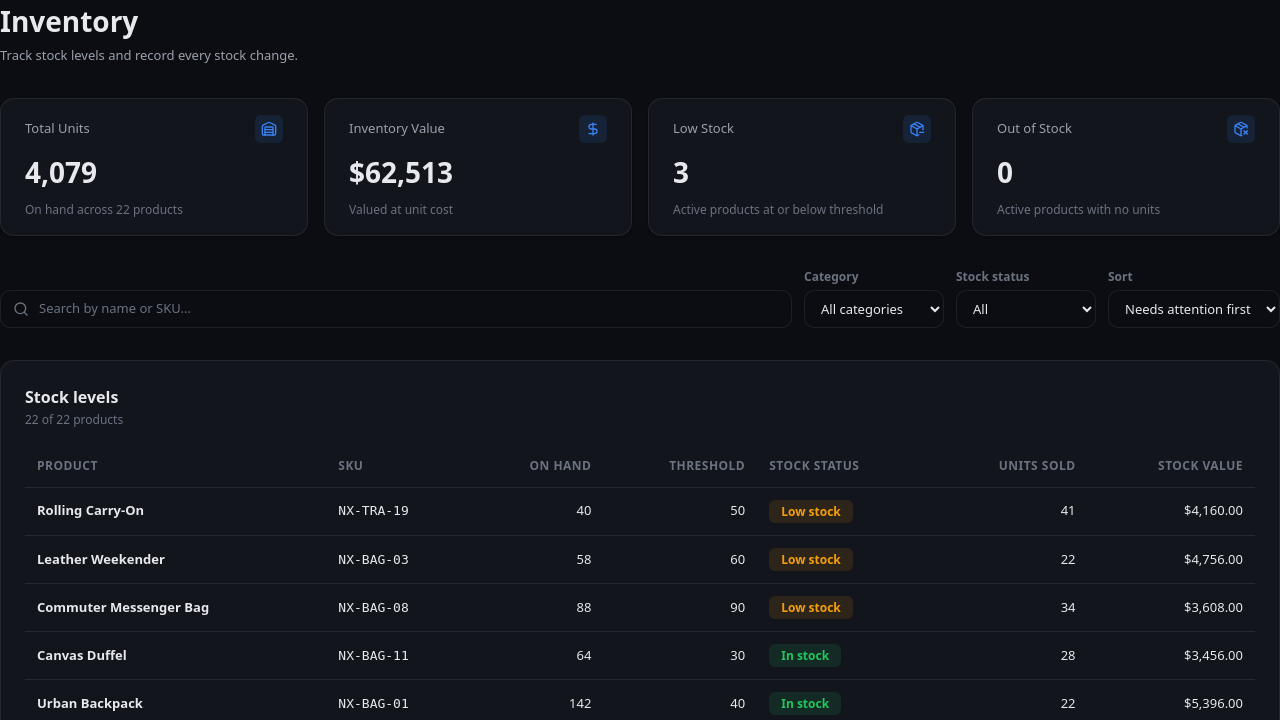
Scenario: Inventory page: search, filters and sorting › shows Clear filters only when needed and resets every control
This screenshot has width=1280, height=720.
Expected: the button "Clear filters" is not shown
Type "bag" into the search field named "search inventory" at x=408, y=309, box [37,298,779,319]
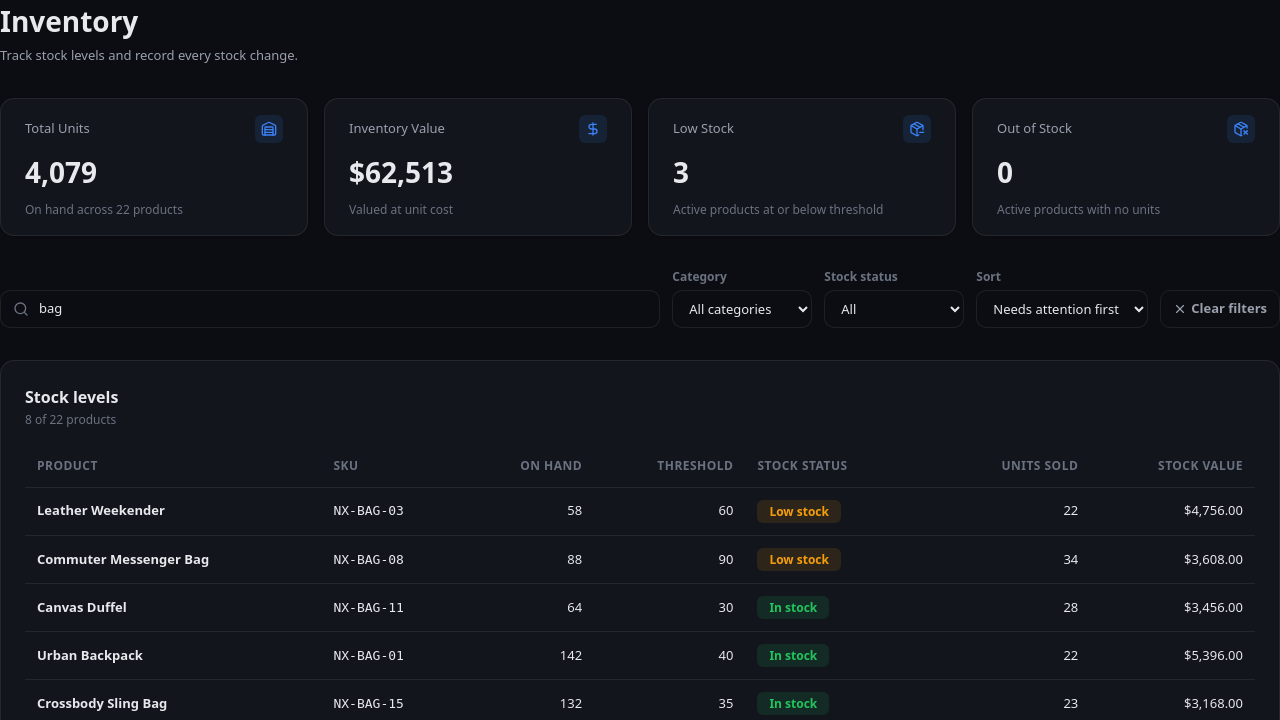
Select "Bags" in the dropdown labelled "Category" at x=742, y=308, box [672,290,812,328]
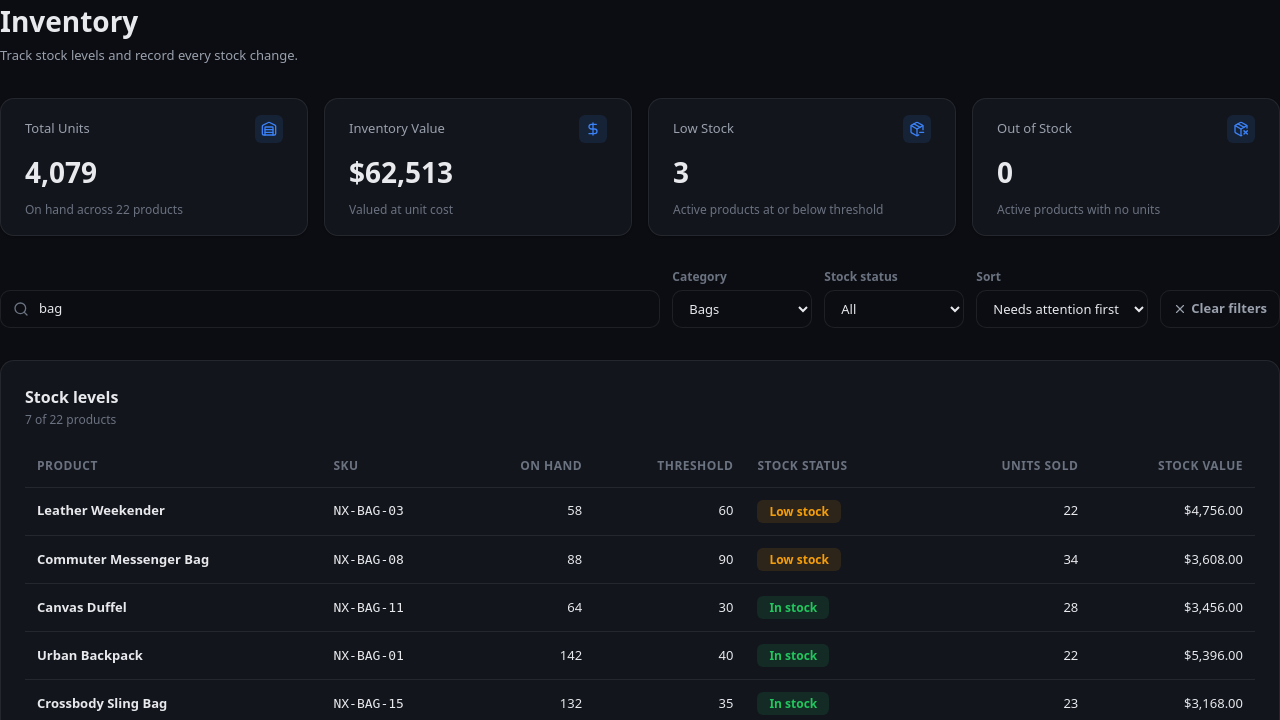
Select "In stock" in the dropdown labelled "Stock status" at x=894, y=308, box [824,290,964,328]
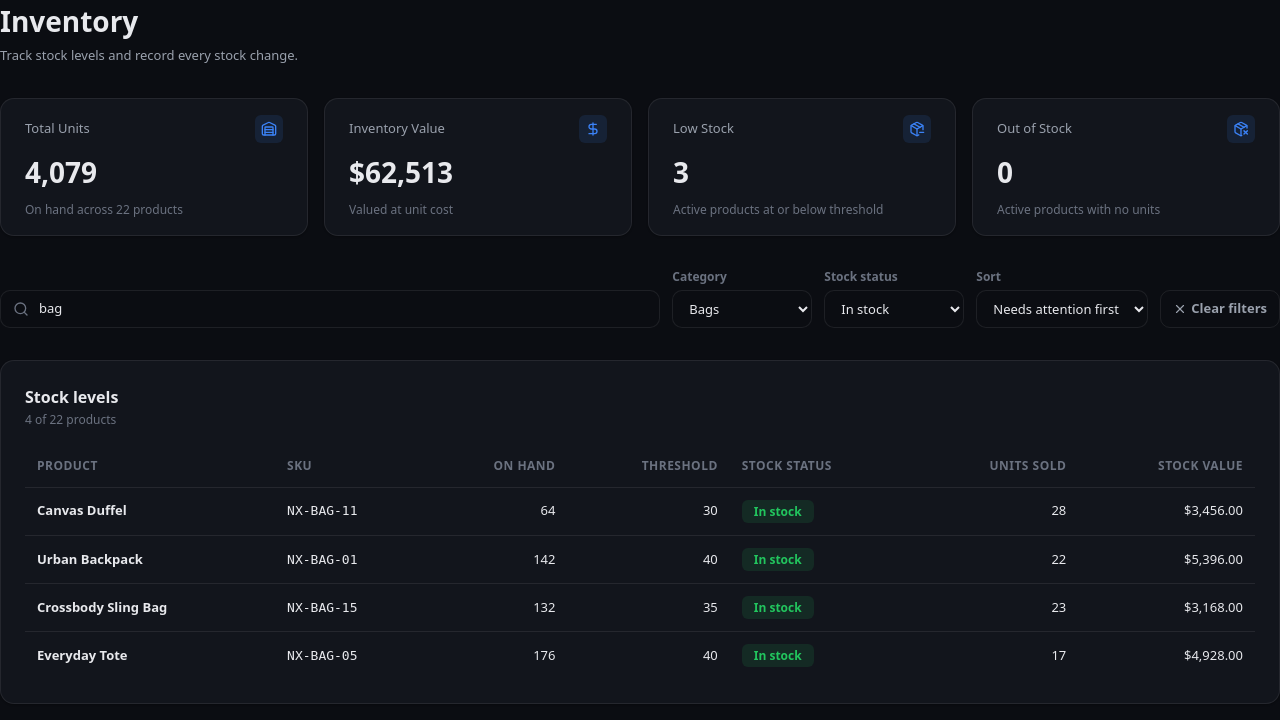
Select "Stock value" in the dropdown labelled "Sort" at x=1062, y=308, box [976,290,1148,328]
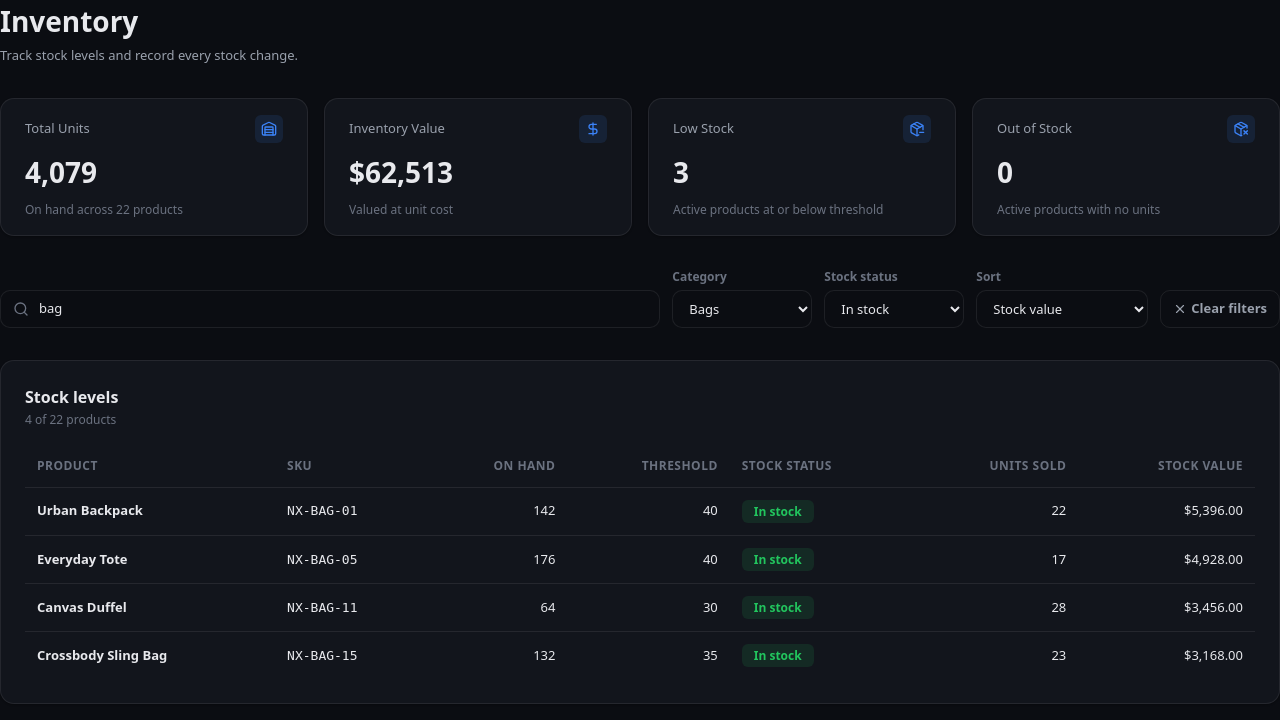
Click the button "Clear filters" at x=1220, y=308, box [1160,290,1279,328]
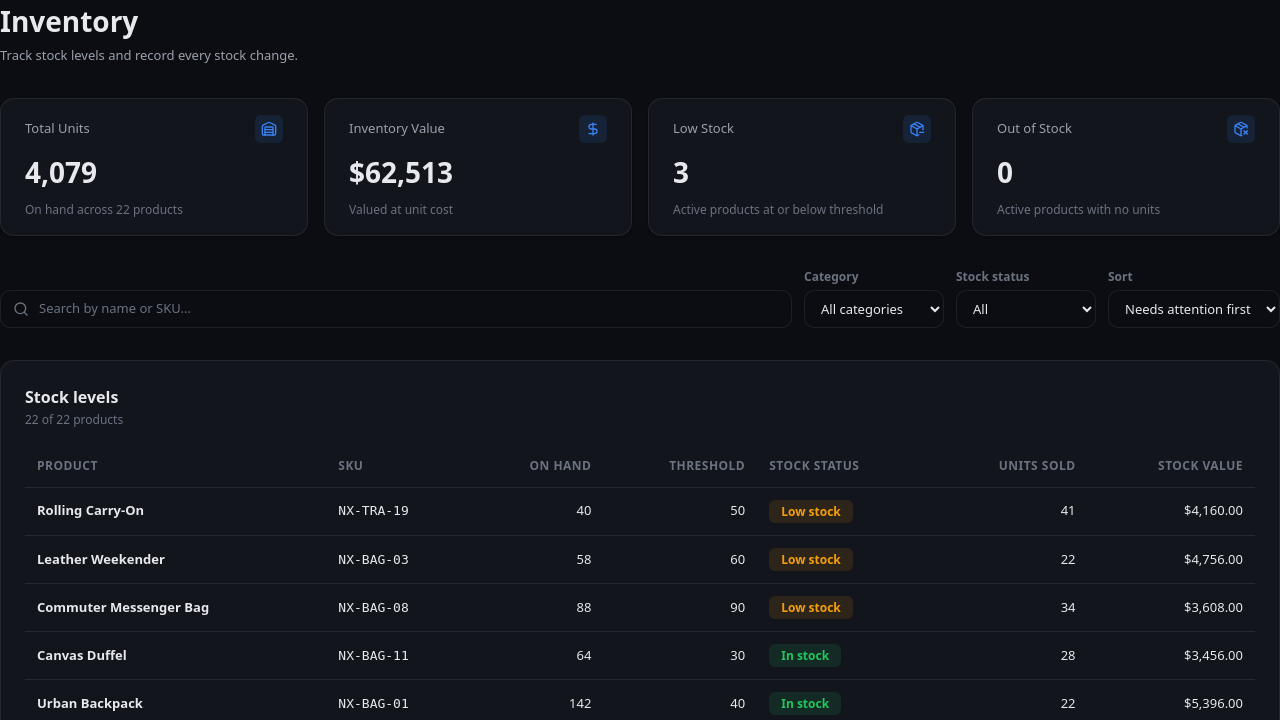
Now the search field named "search inventory" is empty, box [37,298,779,319]
